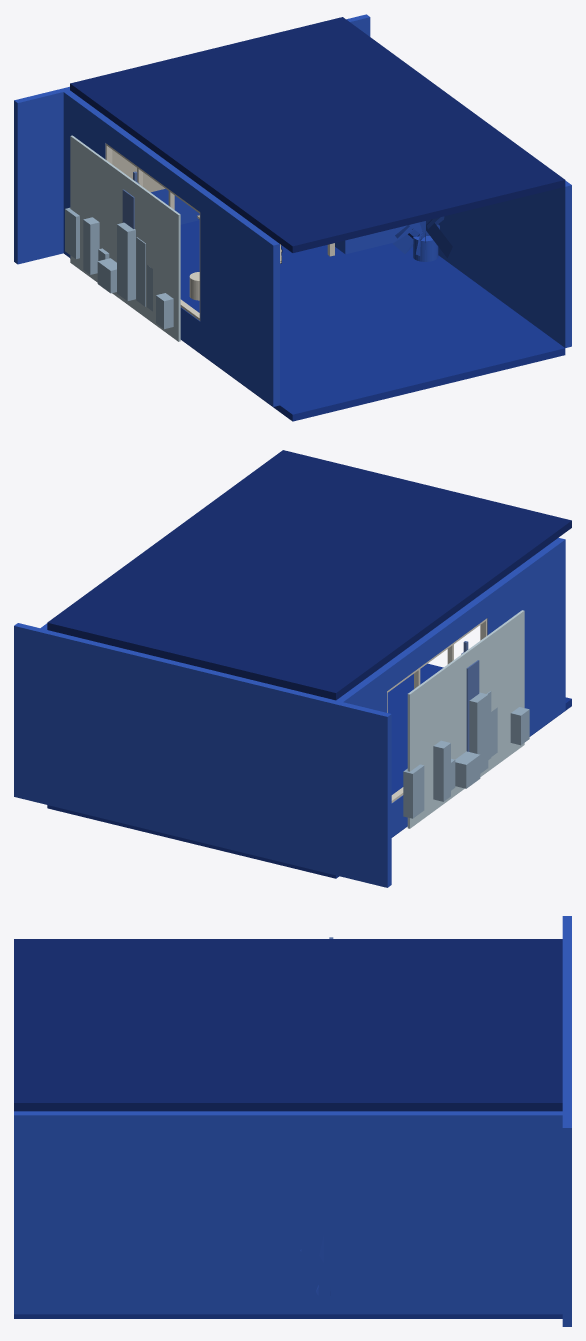
File: office_room.glb
3 renders of one model, top to bottom at view 1: azimuth 30°, elevation 25°; view 2: azimuth 150°, elevation 25°; view 3: azimuth 270°, elevation 25°, orthographic. The views are drawn at different scales.
Parts seen in each view (by area): view 1: Grp_Ceiling_1, Grp_Floor_1, Grp_Walls_6, Grp_Walls_5, Grp_Skyline_17, Grp_Walls_1, Grp_Walls_2, Grp_Walls_3, Grp_Skyline_5, Grp_Skyline_8, Grp_Credenza_5, Grp_Skyline_10 (+6 smaller); view 2: Grp_Ceiling_1, Grp_Walls_1, Grp_Skyline_17, Grp_Walls_5, Grp_Floor_1, Grp_Walls_2, Grp_Skyline_5, Grp_Walls_3, Grp_Skyline_10, Grp_Skyline_8, Grp_Skyline_6, Grp_Skyline_1 (+1 smaller); view 3: Grp_Walls_6, Grp_Ceiling_1, Grp_Walls_1, Grp_Floor_1.
Part boxes in pixels (box(x1,y1,x2,y2)): Grp_Ceiling_1: box(70, 17, 565, 252); Grp_Floor_1: box(180, 220, 565, 421); Grp_Walls_6: box(438, 180, 571, 347); Grp_Walls_5: box(200, 190, 279, 406); Grp_Skyline_17: box(70, 135, 180, 341); Grp_Walls_1: box(14, 14, 370, 264); Grp_Walls_2: box(105, 120, 206, 211); Grp_Walls_3: box(63, 90, 110, 257); Grp_Skyline_5: box(117, 222, 135, 301); Grp_Skyline_8: box(83, 217, 99, 274); Grp_Credenza_5: box(335, 225, 406, 254); Grp_Skyline_10: box(65, 207, 79, 258); Grp_Ceiling_1: box(47, 450, 571, 700); Grp_Walls_1: box(14, 623, 391, 887); Grp_Skyline_17: box(407, 610, 524, 828); Grp_Walls_5: box(481, 537, 565, 736); Grp_Floor_1: box(47, 663, 571, 878); Grp_Walls_2: box(380, 594, 487, 690); Grp_Skyline_5: box(469, 692, 488, 773); Grp_Walls_3: box(336, 668, 386, 712); Grp_Skyline_10: box(403, 764, 424, 818); Grp_Skyline_8: box(433, 740, 450, 801); Grp_Skyline_6: box(455, 751, 480, 788); Grp_Skyline_1: box(510, 707, 529, 745); Grp_Walls_6: box(14, 1111, 562, 1314); Grp_Ceiling_1: box(14, 939, 562, 1111); Grp_Walls_1: box(562, 916, 571, 1326); Grp_Floor_1: box(14, 1314, 562, 1318).
Bounding box in the file's own units: 6.4 × 3.04 × 7.12.
